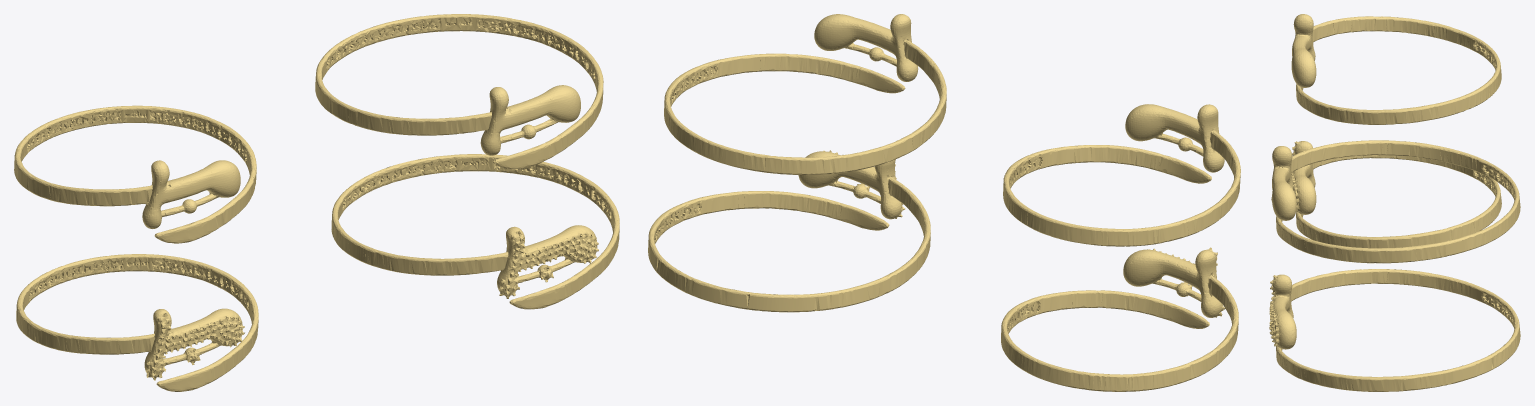
File: 14-اكسسوار-السيف.glb
The picture shows the model from 3 angles, left to right: view 1: azimuth 30°, elevation 25°; view 2: azimuth 150°, elevation 25°; view 3: azimuth 270°, elevation 25°; orthographic projection. The views are drawn at different scales.
Visible parts, largest first — view 1: world; view 2: world; view 3: world.
Part boxes in pixels (bbox=[...]): world: bbox=[14, 14, 619, 391]; world: bbox=[648, 14, 1240, 391]; world: bbox=[1269, 14, 1520, 391].
Bounding box in the file's own units: 144 × 57 × 64.66.
